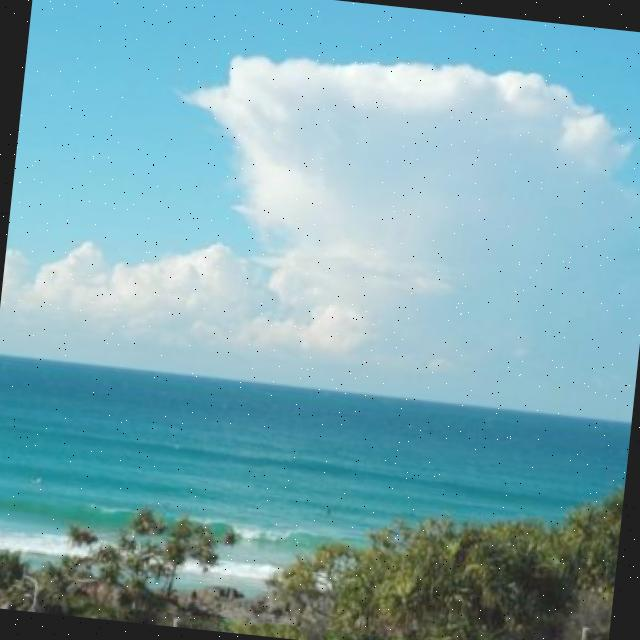Cb: (1, 1, 640, 414)
